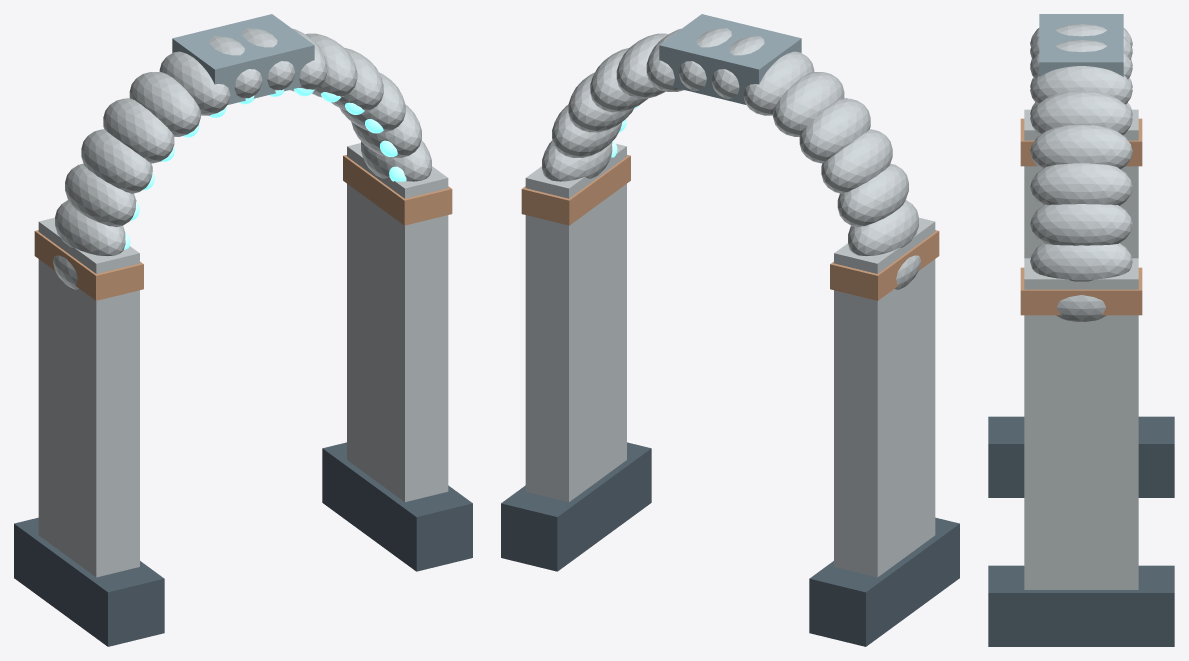
Rendered from scanner_arch.glb.
The picture shows the model from 3 angles, left to right: view 1: azimuth 30°, elevation 25°; view 2: azimuth 150°, elevation 25°; view 3: azimuth 270°, elevation 25°; orthographic projection.
Parts seen in each view (by area): view 1: ivory_1, ivory_4, dark_0, dark_3, steel_38, copper_5, ivory_28, ivory_30, ivory_26, ivory_32, copper_2, ivory_34 (+9 smaller); view 2: ivory_1, ivory_4, dark_0, dark_3, steel_38, copper_5, ivory_28, ivory_30, ivory_26, ivory_32, copper_2, ivory_34 (+9 smaller); view 3: ivory_4, dark_3, dark_0, steel_38, ivory_10, ivory_12, ivory_14, ivory_16, ivory_8, copper_5, ivory_1, ivory_18 (+4 smaller).
Boxes of the visible parts, x1,y1,x2,y2 form: ivory_1: (38, 217, 139, 577); ivory_4: (347, 143, 448, 501); dark_0: (14, 517, 164, 646); dark_3: (322, 442, 472, 571); steel_38: (172, 14, 314, 104); copper_5: (343, 155, 452, 225); ivory_28: (103, 98, 174, 163); ivory_30: (81, 129, 152, 193); ivory_26: (129, 72, 200, 136); ivory_32: (65, 163, 136, 227); copper_2: (34, 230, 143, 300); ivory_34: (55, 200, 125, 256); ivory_1: (834, 217, 935, 577); ivory_4: (525, 143, 626, 501); dark_0: (809, 517, 959, 646); dark_3: (501, 442, 651, 571); steel_38: (659, 14, 801, 104); copper_5: (521, 155, 630, 225); ivory_28: (799, 98, 870, 163); ivory_30: (821, 129, 892, 193); ivory_26: (773, 72, 844, 136); ivory_32: (837, 163, 908, 227); copper_2: (830, 230, 939, 300); ivory_34: (848, 200, 918, 256); ivory_4: (1024, 258, 1138, 589); dark_3: (988, 565, 1174, 646); dark_0: (988, 416, 1174, 497); steel_38: (1039, 14, 1123, 76); ivory_10: (1030, 204, 1132, 245); ivory_12: (1030, 163, 1132, 205); ivory_14: (1030, 125, 1132, 169); ivory_16: (1030, 90, 1132, 134); ivory_8: (1030, 243, 1132, 281); copper_5: (1020, 267, 1142, 315); ivory_1: (1024, 109, 1138, 258); ivory_18: (1030, 66, 1132, 104).
Bounding box in the file's own units: 1.68 × 2.33 × 0.75.
